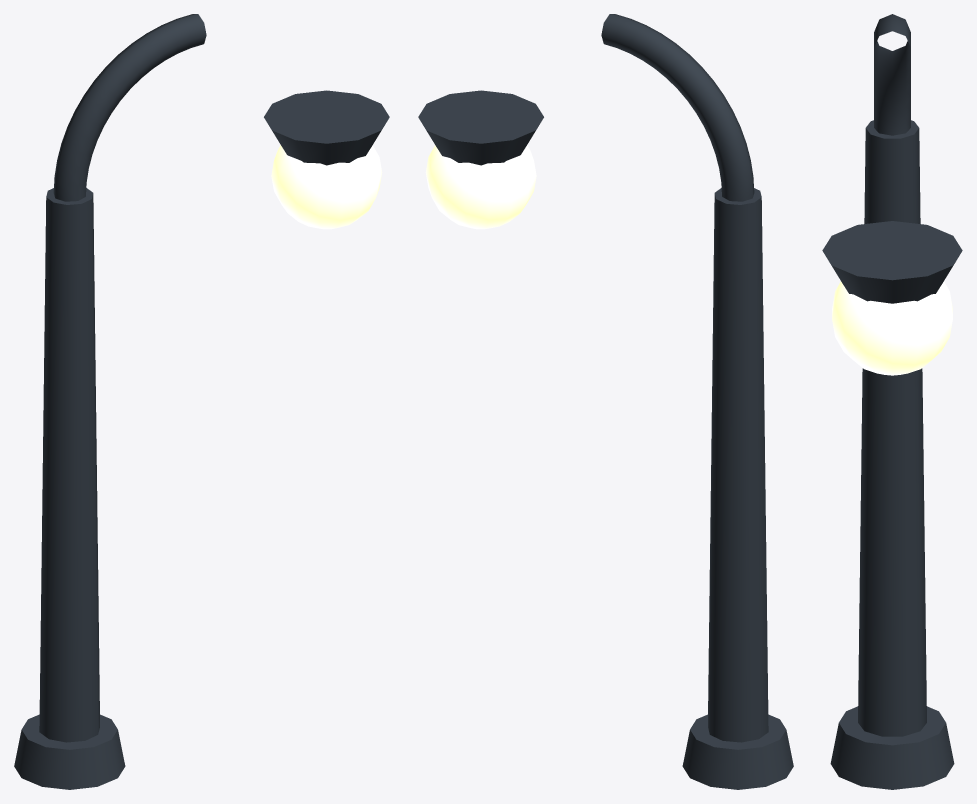
The model's file is lamp.gltf.
3 renders of one model, left to right at view 1: azimuth 30°, elevation 25°; view 2: azimuth 150°, elevation 25°; view 3: azimuth 270°, elevation 25°, orthographic. The views are drawn at different scales.
Parts seen in each view (by area): view 1: lamp; view 2: lamp; view 3: lamp.
Part boxes in pixels (<box>): lamp: <box>14,14,389,789</box>; lamp: <box>418,14,793,789</box>; lamp: <box>822,14,962,789</box>.
Size of the model in its own units: 2.24 by 4.29 by 0.68.
